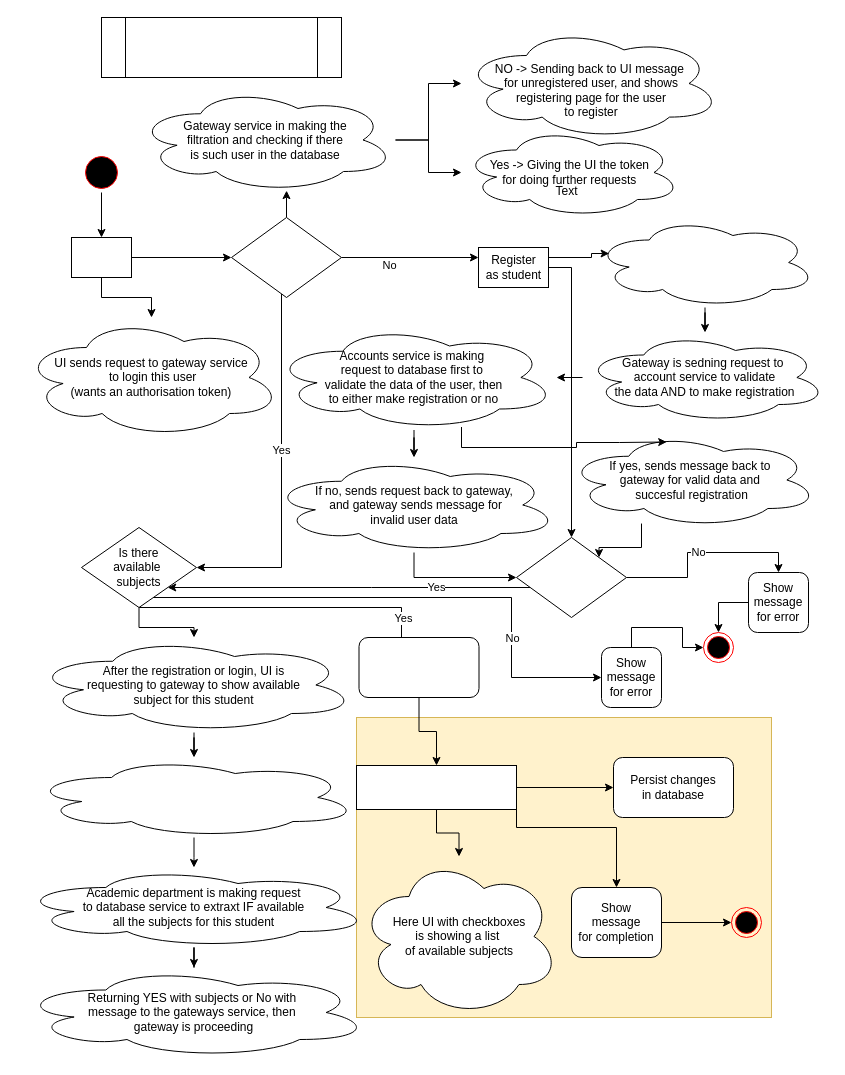
Some shapes in this 845 by 1075 pixel diagram are drawn without their labels. Each missing label, with the centre of its shape:
Gateway makes request to Academic department to show courses for given user: (x=193, y=797)
Is he real student: (x=571, y=577)
Login: (x=101, y=257)
Registered?: (x=286, y=257)
Sends request to gateway to register new user (Sending data for user): (x=704, y=262)
Show available subjects for this student: (x=418, y=667)
Student applying for subject: (x=221, y=47)
Student is selecting subject: (x=436, y=787)
